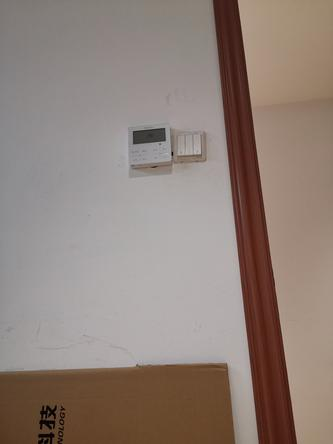switch: (190, 132, 203, 157), (183, 132, 195, 156), (176, 133, 186, 157)
